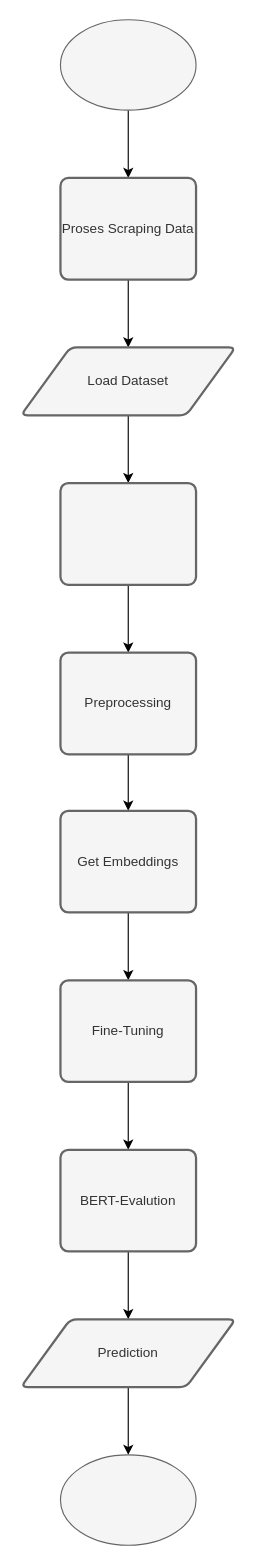
Some shapes in this 255 by 1565 pixel diagram are drawn without their labels. Here are the shapes that lost their labels. From the top down, the centre of each, then its label:
At (127,64): "Start".
At (128,533): "Split Dataset Train/Test".
At (127,1499): "Finish".
